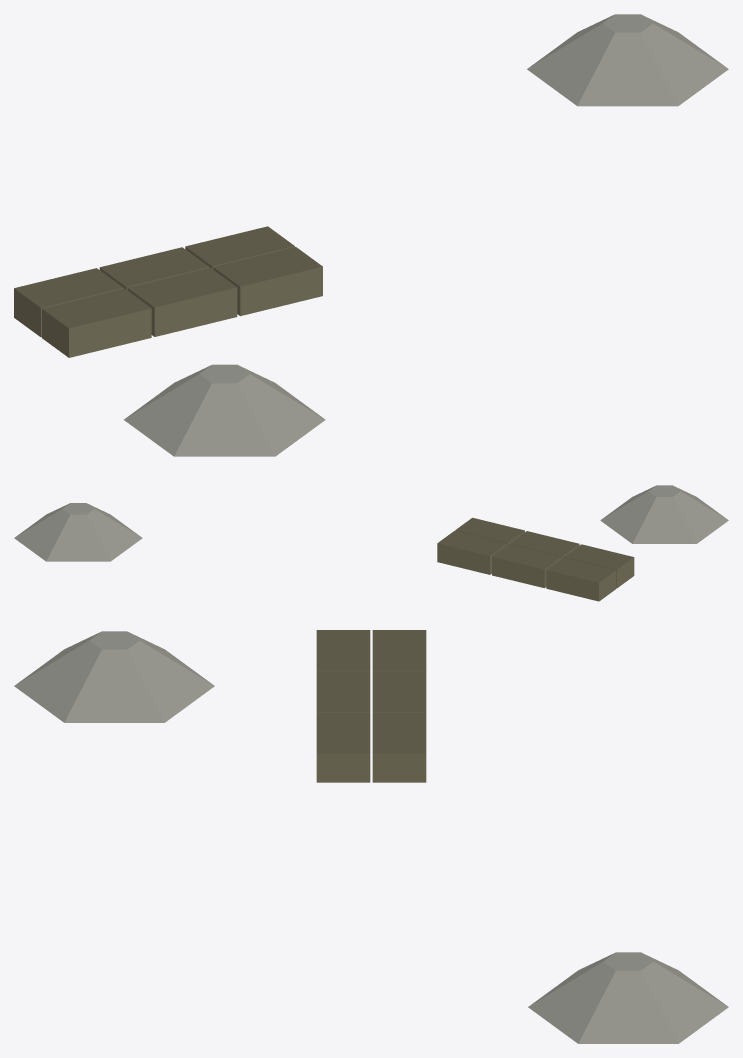
Rendered from SM_ObraReconstruccion_v3_8m_LOD1.fbx.
3 views of the same model, one above another, from view 1: azimuth 30°, elevation 25°; view 2: azimuth 150°, elevation 25°; view 3: azimuth 270°, elevation 25° (orthographic). The views are drawn at different scales.
Parts seen in each view (by area): view 1: SM_obra_curso_v46_LOD1; view 2: SM_obra_curso_v46_LOD1; view 3: SM_obra_curso_v46_LOD1.
Part boxes in pixels (x1,y1,x2,y2): SM_obra_curso_v46_LOD1: (14,14,728,456); SM_obra_curso_v46_LOD1: (14,485,728,601); SM_obra_curso_v46_LOD1: (14,630,728,1043).
Bounding box in the file's own units: 8.36 × 0.45 × 6.4.
